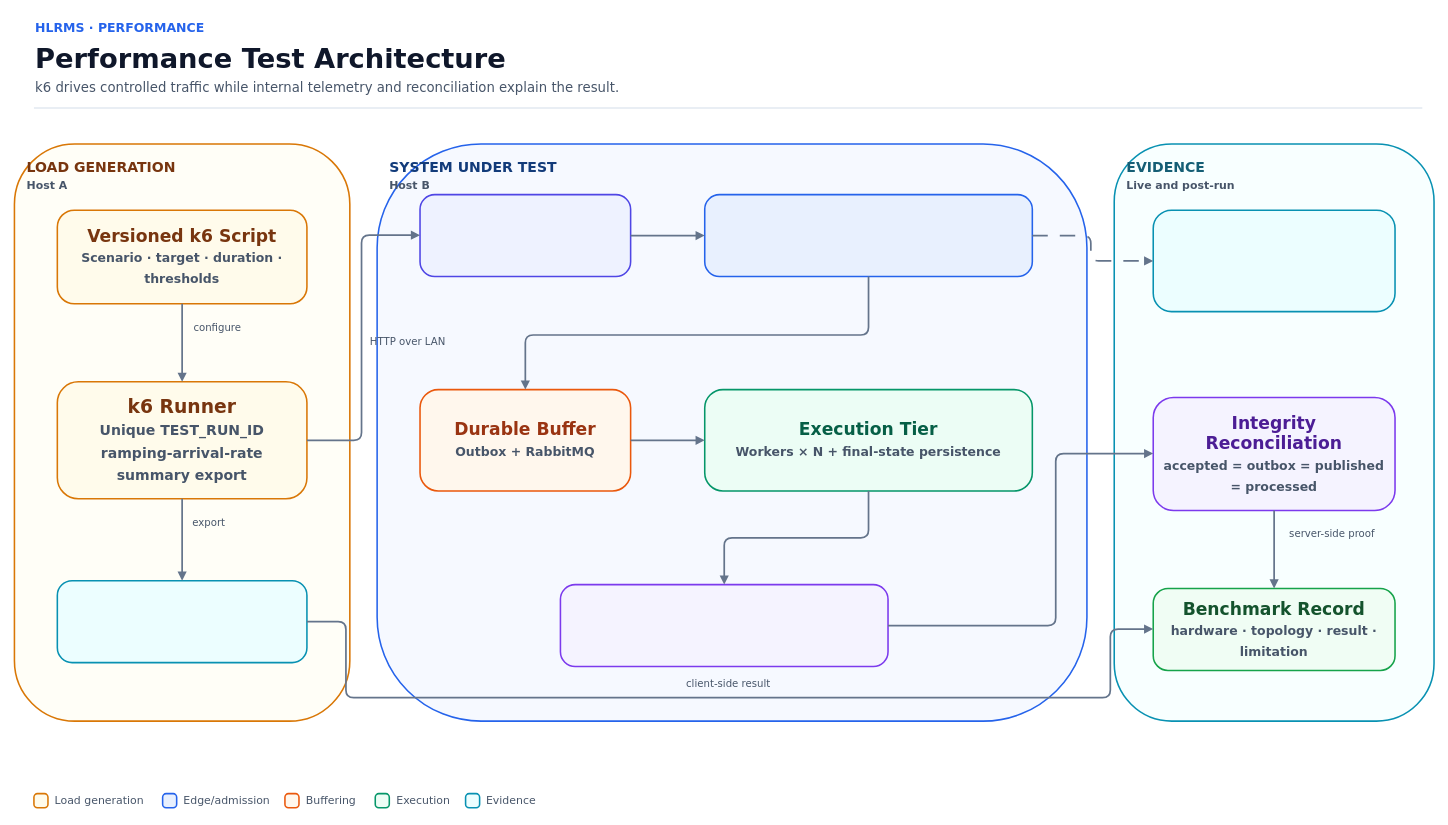
Image size: 1448x825. Some labels were removed from this diagram. Each missing label, with the centre of its shape:
"Admission Tier Gateway + 2 Request Services" goes at pixel 868 235.
"Gateway LB Public test endpoint" goes at pixel 525 235.
"Grafana Live View Prometheus-backed · RPS · P95 · errors · queue · CPU" goes at pixel 1273 260.
"Raw Result Files JSON/CSV + terminal summary" goes at pixel 181 621.
"Shared State PostgreSQL + Redis" goes at pixel 723 625.
